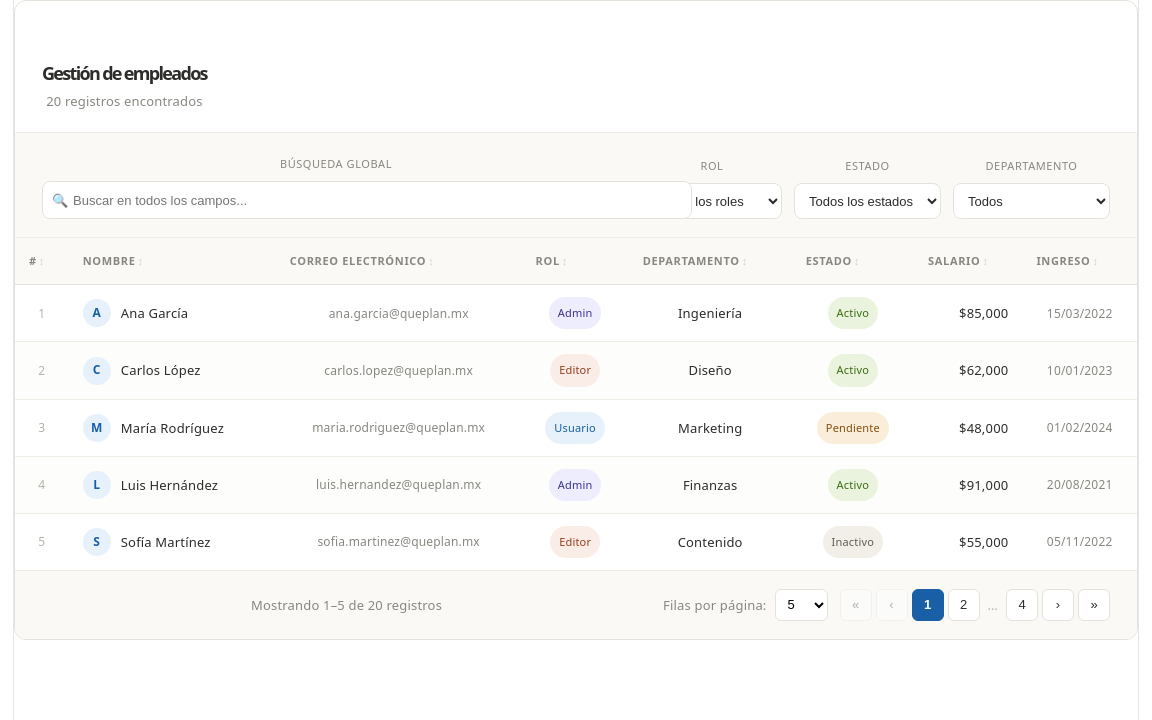
Test case: UnifiedEmployeeTable — modo frontend › filtra por búsqueda global sin red, instantáneamente
The image size is (1152, 720).
Type "ana garcía" into the field with placeholder "Buscar en todos los campos...".
click(367, 200); type("ana garcía")  # box left=42, top=181, right=692, bottom=219
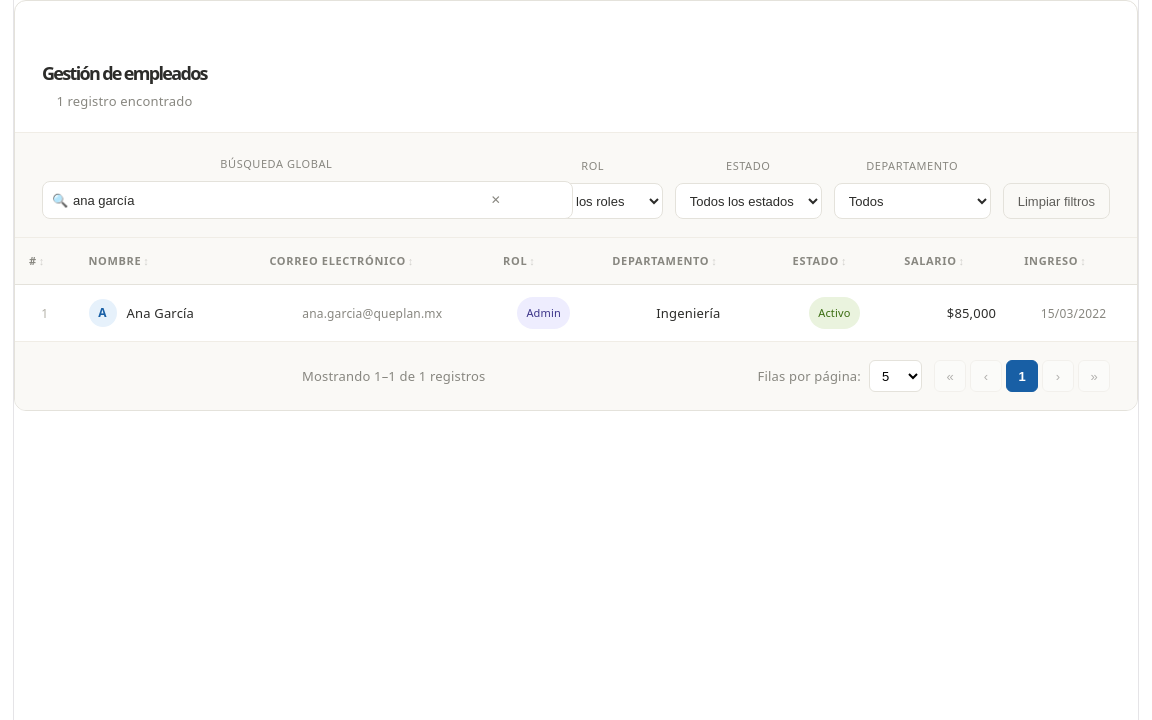
Expected: the text "Ana García" is shown, left=126, top=300, right=194, bottom=326
Result: the text "1 registro encontrado" is shown at left=56, top=92, right=192, bottom=110
